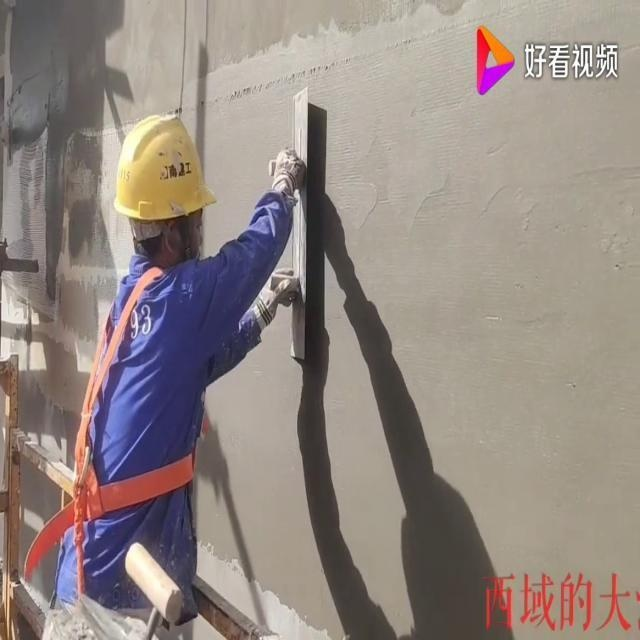Arnes_seguridad: (64, 254, 211, 556)
